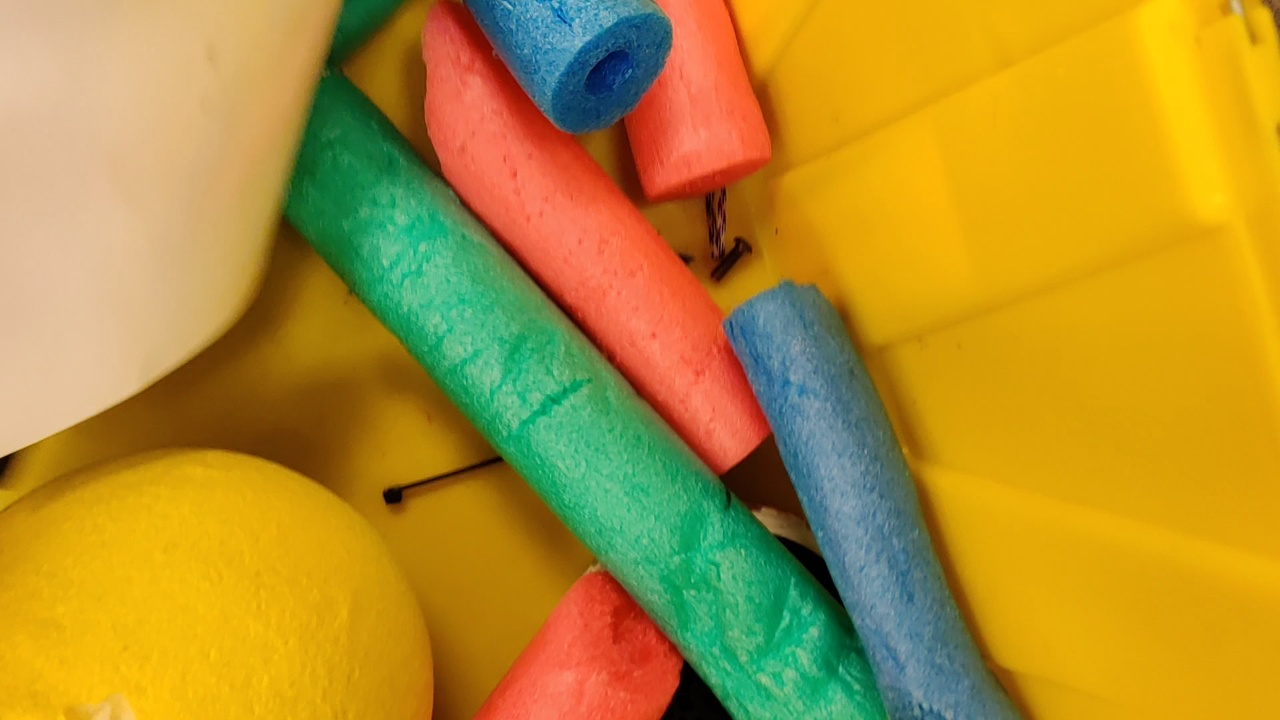Ball: (1, 443, 434, 719)
